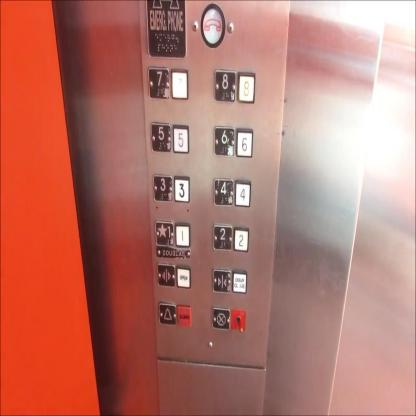1: (154, 219, 175, 247), (174, 222, 190, 248)
2: (212, 223, 233, 251), (233, 225, 249, 252)
3: (152, 173, 173, 203), (174, 174, 190, 202)
4: (214, 176, 234, 206), (234, 178, 251, 207)
5: (150, 122, 172, 152), (172, 124, 189, 154)
6: (213, 125, 235, 156), (235, 127, 253, 157)
7: (148, 65, 170, 101)
8: (213, 69, 236, 102), (237, 71, 256, 104)
alarm: (158, 300, 176, 326)
blur: (170, 68, 188, 100)
bt_switch: (230, 309, 245, 332)
call: (199, 2, 226, 48)
close: (212, 268, 232, 294)
open: (157, 262, 176, 287)
stop: (212, 306, 230, 331)
text_alarm bell: (176, 304, 192, 326)
text_close door: (232, 269, 247, 294)
text_open door: (176, 266, 191, 288)
